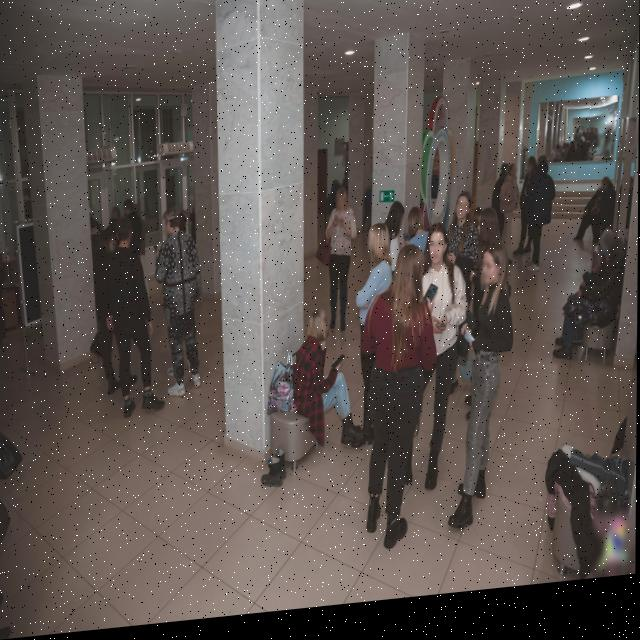Person: (352, 259, 438, 571), (446, 256, 523, 549), (287, 310, 369, 470), (350, 230, 397, 458), (116, 204, 154, 444), (164, 206, 199, 413), (317, 186, 360, 340), (90, 232, 124, 410), (527, 164, 559, 287), (576, 182, 622, 255), (122, 187, 149, 302), (489, 169, 514, 280), (447, 200, 478, 277), (499, 170, 520, 282), (403, 208, 434, 281), (381, 204, 411, 273), (522, 166, 537, 268), (108, 203, 122, 238)
